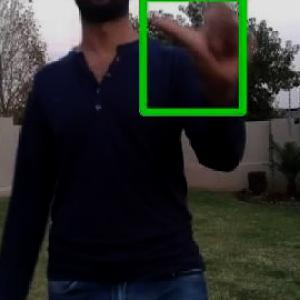land_hand: (144, 0, 264, 106)
